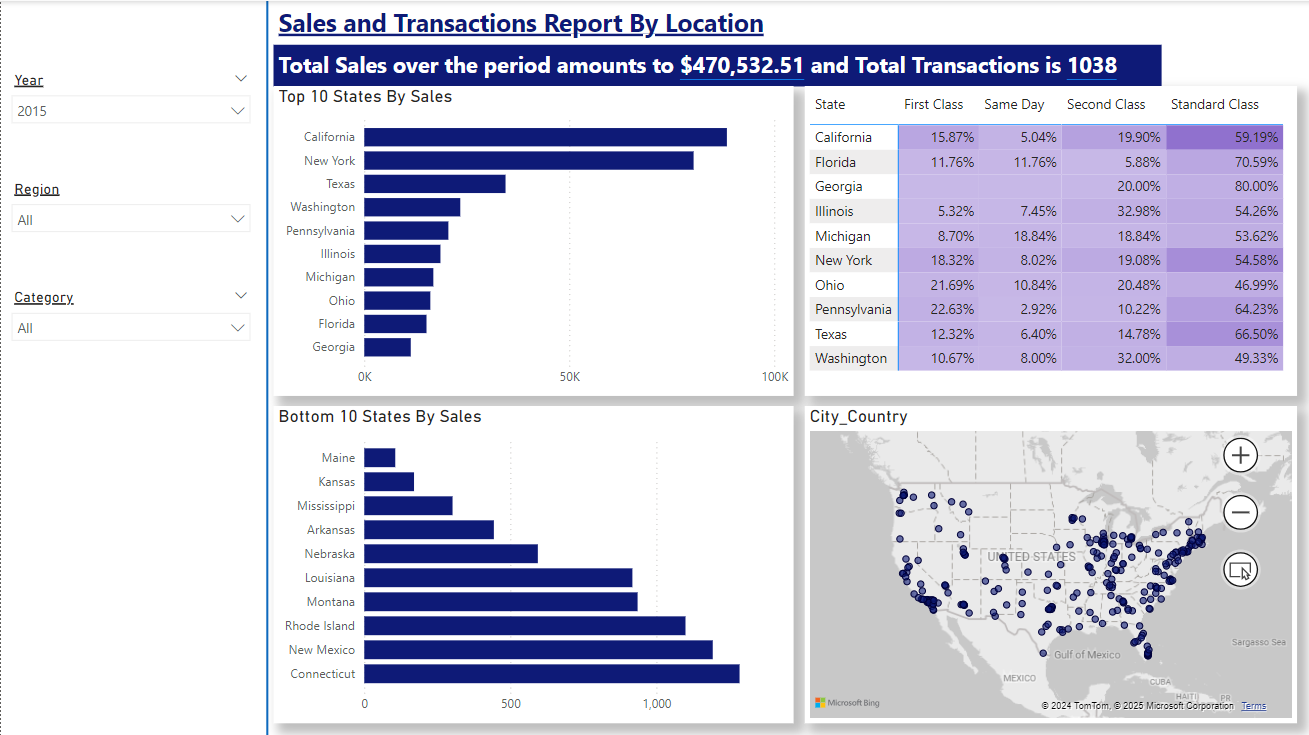

This screenshot's page, from the dashboard's own definition file:
{"tool":"powerbi","page":{"name":"Locations Report","canvas":[1280,720],"ordinal":1},"visuals":[{"type":"shape","box":[253.9,0,12.3,720.4],"z":0},{"type":"textbox","box":[266.2,0,509.1,42.5],"z":1000},{"type":"textbox","box":[266.2,42.5,868.6,41.2],"z":2000},{"type":"slicer","fields":{"Values":["Orders.Order Date.Variation.Date Hierarchy.Year"]},"box":[0,63.1,253.9,83.7],"z":3000},{"type":"slicer","fields":{"Values":["Orders.Region"]},"box":[0,169.5,253.9,83.7],"z":4000},{"type":"slicer","fields":{"Values":["Orders.Category"]},"box":[0,275.8,253.9,83.7],"z":5000},{"type":"barChart","title":"Top 10 States By Sales","fields":{"Y":["Sum(Orders.Sales)"],"Category":["Orders.State"]},"box":[266.2,83.7,509.1,303.3],"z":6000},{"type":"barChart","title":"Bottom 10 States By Sales","fields":{"Y":["Sum(Orders.Sales)"],"Category":["Orders.State"]},"box":[266.2,396.6,509.1,310.1],"z":7000},{"type":"pivotTable","fields":{"Columns":["Orders.Ship Mode"],"Rows":["Orders.State"],"Values":["Sum(Orders.Sales)"]},"box":[786.3,83.7,481.6,303.3],"z":8000},{"type":"map","fields":{"Category":["Orders.City_Country"]},"box":[786.3,396.6,481.6,310.1],"z":9000}]}

Visuals, with their boxes in screenshot pixels (x1, y1, x2, y2), scaled from the page's 1280x720 canvas onto the 1309x735 screenshot:
shape: BBox(260, 0, 272, 734)
textbox: BBox(272, 0, 793, 43)
textbox: BBox(272, 43, 1161, 85)
slicer - Orders.Order Date.Variation.Date Hierarchy.Year: BBox(0, 64, 260, 150)
slicer - Orders.Region: BBox(0, 173, 260, 258)
slicer - Orders.Category: BBox(0, 282, 260, 367)
"Top 10 States By Sales" barChart: BBox(272, 85, 793, 395)
"Bottom 10 States By Sales" barChart: BBox(272, 405, 793, 721)
pivotTable - Orders.Ship Mode x Orders.State: BBox(804, 85, 1297, 395)
map - Orders.City_Country: BBox(804, 405, 1297, 721)
